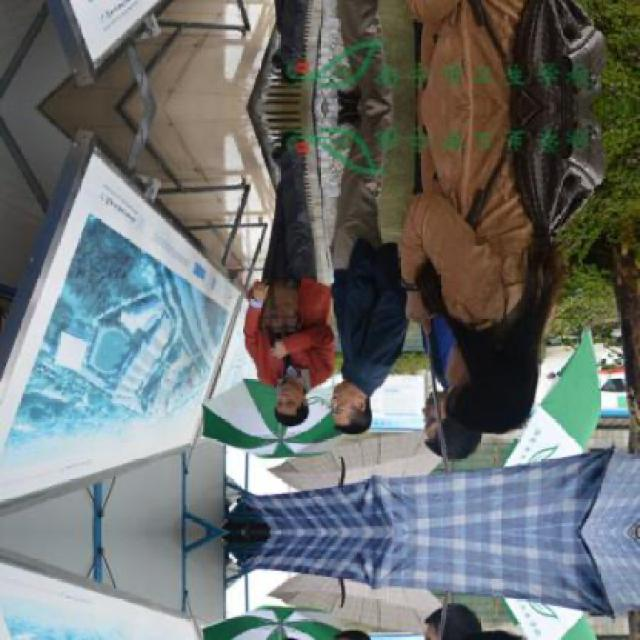con casco: (401, 338, 506, 458), (416, 391, 458, 484), (318, 381, 358, 447), (254, 389, 306, 428)
